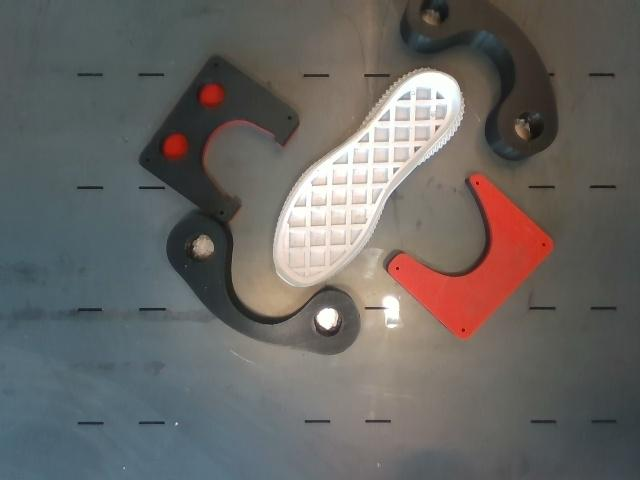shoes: (274, 72, 461, 287)
